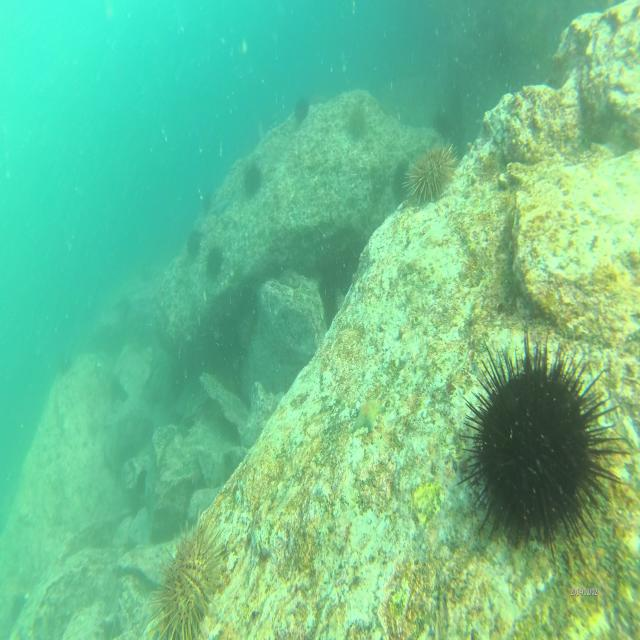echinus: (456, 330, 630, 564), (144, 511, 232, 640), (403, 138, 458, 204), (345, 102, 369, 143), (241, 159, 263, 202), (183, 222, 204, 264), (203, 240, 222, 282), (292, 92, 311, 125)
